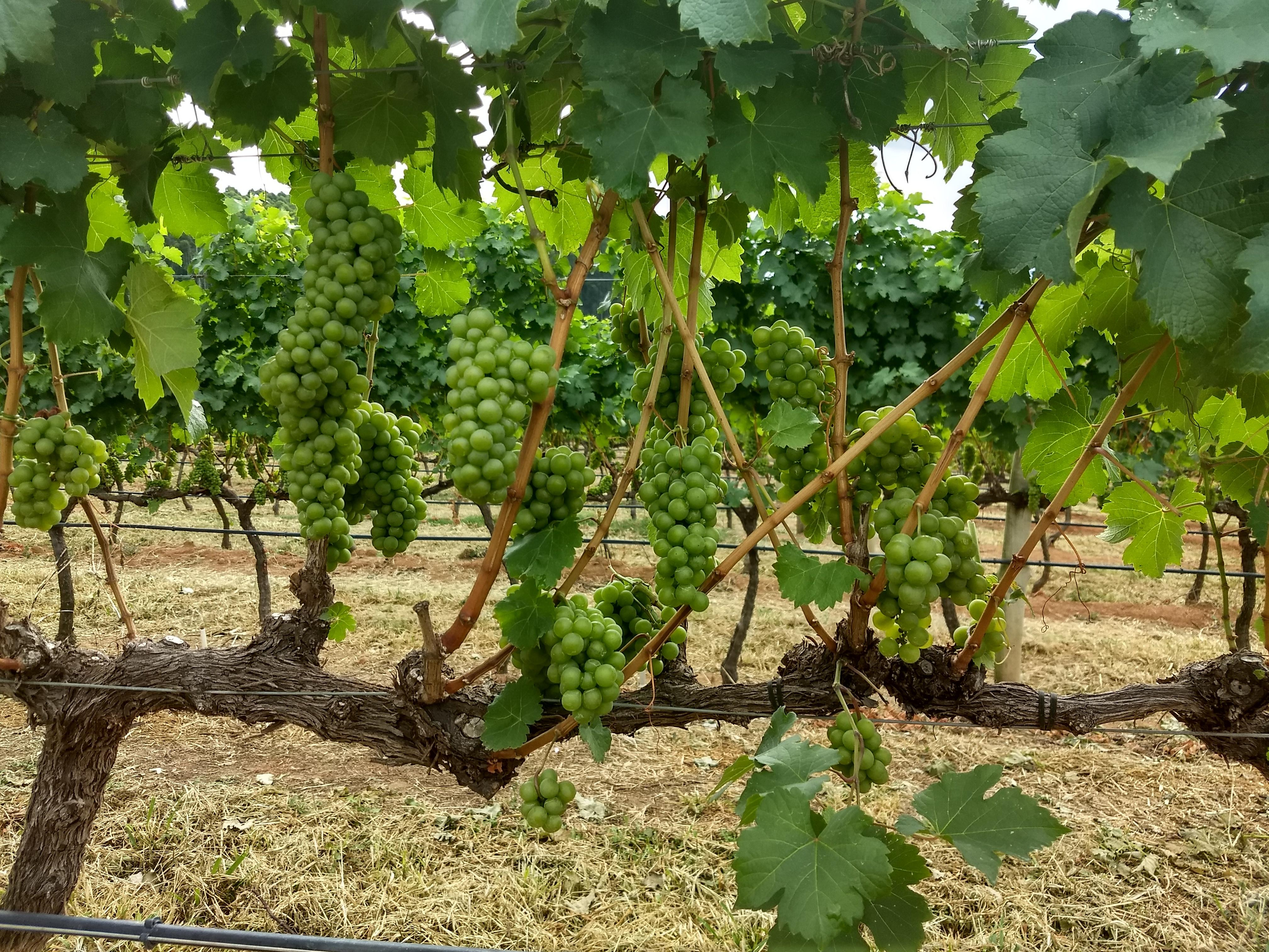leaf: (1108, 90, 1268, 347), (732, 790, 890, 945), (895, 764, 1069, 883), (569, 76, 712, 198), (1103, 52, 1230, 183), (708, 81, 832, 207), (580, 0, 700, 95), (172, 0, 275, 105), (1098, 477, 1206, 577), (1131, 0, 1268, 74), (21, 0, 111, 107), (735, 735, 839, 824), (331, 72, 428, 165), (215, 55, 313, 143), (126, 261, 200, 375), (1022, 386, 1095, 499), (0, 110, 88, 191), (402, 166, 485, 250), (775, 543, 868, 609), (1227, 226, 1268, 374), (152, 163, 227, 239), (504, 517, 582, 587), (714, 36, 797, 93), (481, 677, 543, 750), (440, 0, 521, 55), (494, 578, 554, 650), (678, 0, 770, 45), (413, 248, 471, 316), (0, 0, 55, 69), (900, 0, 978, 48), (766, 916, 870, 952), (759, 398, 822, 448), (1061, 461, 1106, 504), (578, 718, 611, 763), (320, 601, 357, 641), (1247, 498, 1268, 547), (970, 0, 976, 2), (0, 134, 2, 137), (407, 217, 408, 220), (138, 356, 139, 358), (962, 0, 963, 1), (438, 129, 438, 132), (681, 156, 686, 156), (184, 365, 191, 365)
